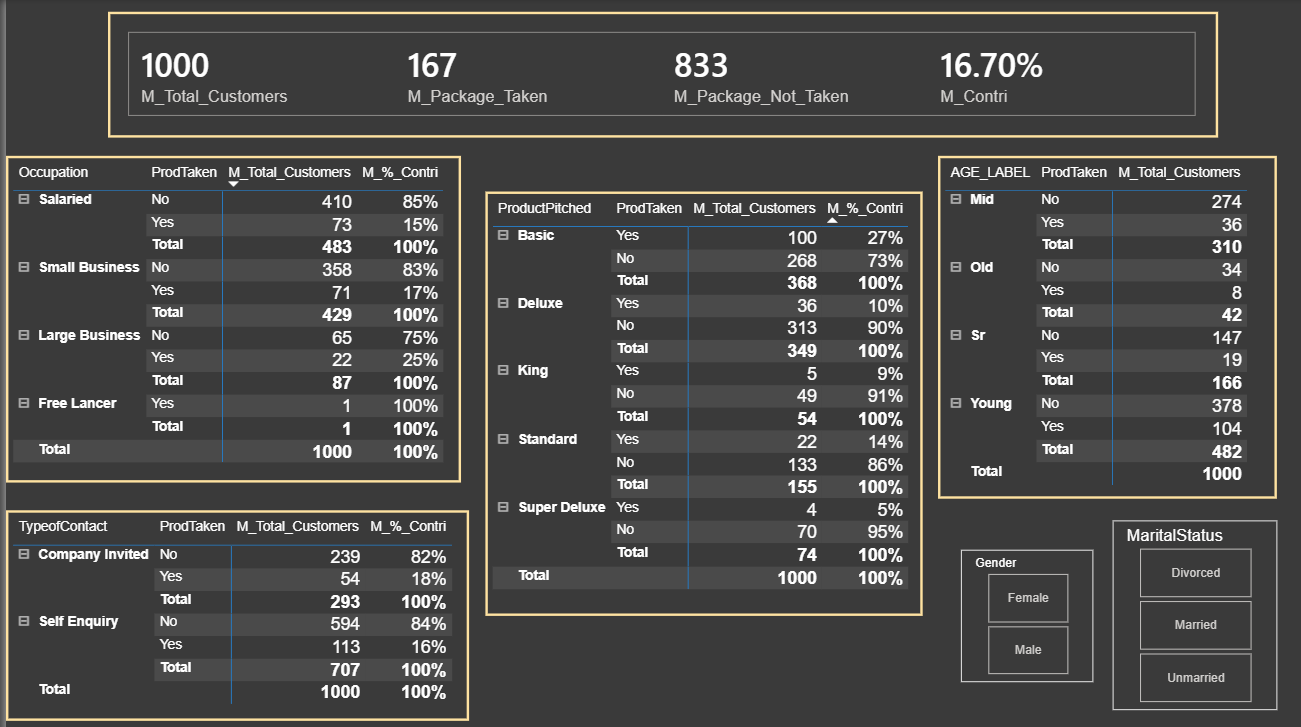

This screenshot's page, from the dashboard's own definition file:
{"tool":"powerbi","page":{"name":"Summary","canvas":[1280,720],"ordinal":4},"visuals":[{"type":"cardVisual","fields":{"Data":["Tour_Data.M_Total_Customers","Tour_Data.M_Package_Taken","Tour_Data.M_Package_Not_Taken","Tour_Data.M_Contri"]},"box":[99.2,12.4,1079.6,122.7],"z":0},{"type":"pivotTable","fields":{"Rows":["Tour_Data.ProductPitched","Tour_Data.ProdTaken"],"Values":["Tour_Data.M_Total_Customers","Tour_Data.M_%_Contri"]},"box":[466,187.2,425.1,412.7],"z":1000},{"type":"pivotTable","fields":{"Rows":["Tour_Data.TypeofContact","Tour_Data.ProdTaken"],"Values":["Tour_Data.M_Total_Customers","Tour_Data.M_%_Contri"]},"box":[0,497,449.9,204.5],"z":2000},{"type":"pivotTable","fields":{"Rows":["Tour_Data.Occupation","Tour_Data.ProdTaken"],"Values":["Tour_Data.M_Total_Customers","Tour_Data.M_%_Contri"]},"box":[0,152.5,442.5,317.3],"z":3000},{"type":"pivotTable","fields":{"Rows":["Tour_Data.AGE_LABEL","Tour_Data.ProdTaken"],"Values":["Tour_Data.M_Total_Customers"]},"box":[906.1,152.5,329.7,333.4],"z":4000},{"type":"slicer","fields":{"Values":["Tour_Data.Gender"]},"box":[928.4,535.5,128.9,128.9],"z":5000},{"type":"slicer","fields":{"Values":["Tour_Data.MaritalStatus"]},"box":[1075.9,506.9,159.9,184.7],"z":6000}]}

Visuals, with their boxes in screenshot pixels (x1, y1, x2, y2), scaled from the page's 1280x720 canvas onto the 1301x727 screenshot:
cardVisual - Tour_Data.M_Total_Customers x Tour_Data.M_Package_Taken: 101,13,1198,136
pivotTable - Tour_Data.ProductPitched x Tour_Data.ProdTaken: 474,189,906,606
pivotTable - Tour_Data.TypeofContact x Tour_Data.ProdTaken: 0,502,457,708
pivotTable - Tour_Data.Occupation x Tour_Data.ProdTaken: 0,154,450,474
pivotTable - Tour_Data.AGE_LABEL x Tour_Data.ProdTaken: 921,154,1256,491
slicer - Tour_Data.Gender: 944,541,1075,671
slicer - Tour_Data.MaritalStatus: 1094,512,1256,698
